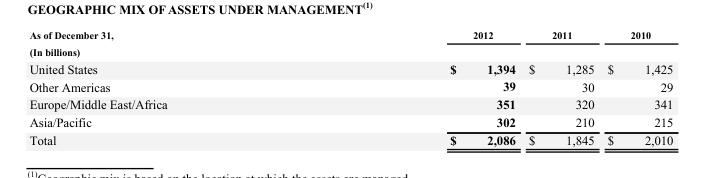table: (28, 28, 672, 146)
table column: (28, 28, 307, 146), (307, 28, 521, 146), (521, 28, 600, 146), (600, 28, 672, 146)
table column header: (28, 28, 672, 43)
table projected row header: (28, 43, 672, 59)
table row: (28, 59, 672, 77), (28, 77, 672, 95), (28, 112, 672, 130), (28, 95, 672, 112), (28, 43, 672, 59), (28, 130, 672, 146), (28, 28, 672, 43)
